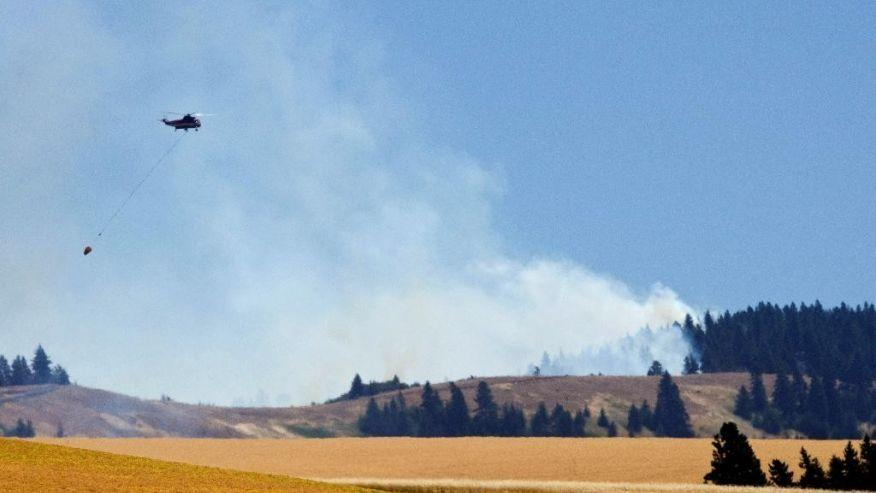smoke: (456, 289, 629, 335)
